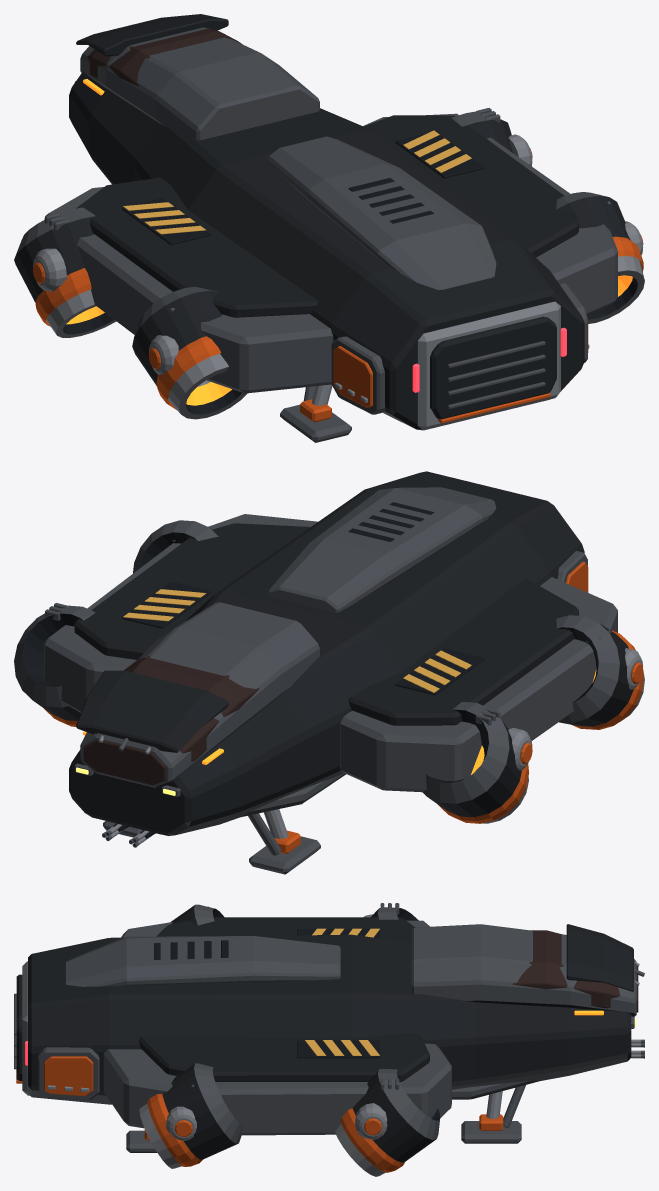
Rendered from cinder_dropship.glb.
3 views of the same model, one above another, from view 1: azimuth 30°, elevation 25°; view 2: azimuth 150°, elevation 25°; view 3: azimuth 270°, elevation 25° (orthographic). The views are drawn at different scales.
Visible parts, largest first — view 1: Fixed_Hull, Cargo_Ramp_Mesh, Vector_Engine_L_1_Mesh, Vector_Engine_L_2_Mesh, Vector_Engine_R_1_Mesh, Landing_Gear_01_Mesh, Vector_Engine_R_2_Mesh; view 2: Fixed_Hull, Vector_Engine_L_2_Mesh, Vector_Engine_L_1_Mesh, Vector_Engine_R_2_Mesh, Landing_Gear_03_Mesh, Vector_Engine_R_1_Mesh; view 3: Fixed_Hull, Vector_Engine_R_1_Mesh, Vector_Engine_R_2_Mesh, Landing_Gear_04_Mesh, Cargo_Ramp_Mesh, Vector_Engine_L_1_Mesh, Landing_Gear_02_Mesh, Vector_Engine_L_2_Mesh.
Part boxes in pixels (x1=…): Fixed_Hull: x1=44, y1=14, x2=617, y2=430; Cargo_Ramp_Mesh: x1=430, y1=316, x2=556, y2=423; Vector_Engine_L_1_Mesh: x1=132, y1=286, x2=247, y2=419; Vector_Engine_L_2_Mesh: x1=14, y1=207, x2=116, y2=337; Vector_Engine_R_1_Mesh: x1=556, y1=192, x2=644, y2=323; Landing_Gear_01_Mesh: x1=280, y1=384, x2=351, y2=442; Vector_Engine_R_2_Mesh: x1=451, y1=108, x2=532, y2=166; Fixed_Hull: x1=44, y1=471, x2=617, y2=835; Vector_Engine_L_2_Mesh: x1=422, y1=702, x2=532, y2=823; Vector_Engine_L_1_Mesh: x1=556, y1=615, x2=644, y2=729; Vector_Engine_R_2_Mesh: x1=14, y1=603, x2=95, y2=726; Landing_Gear_03_Mesh: x1=248, y1=809, x2=320, y2=874; Vector_Engine_R_1_Mesh: x1=133, y1=520, x2=218, y2=573; Fixed_Hull: x1=22, y1=917, x2=644, y2=1135; Vector_Engine_R_1_Mesh: x1=139, y1=1063, x2=243, y2=1168; Vector_Engine_R_2_Mesh: x1=335, y1=1069, x2=440, y2=1176; Landing_Gear_04_Mesh: x1=461, y1=1085, x2=525, y2=1143; Cargo_Ramp_Mesh: x1=14, y1=974, x2=22, y2=1083; Vector_Engine_L_1_Mesh: x1=170, y1=904, x2=224, y2=925; Landing_Gear_02_Mesh: x1=126, y1=1129, x2=156, y2=1152; Vector_Engine_L_2_Mesh: x1=363, y1=903, x2=418, y2=920.
Bounding box in the file's own units: 18 × 7 × 24.
